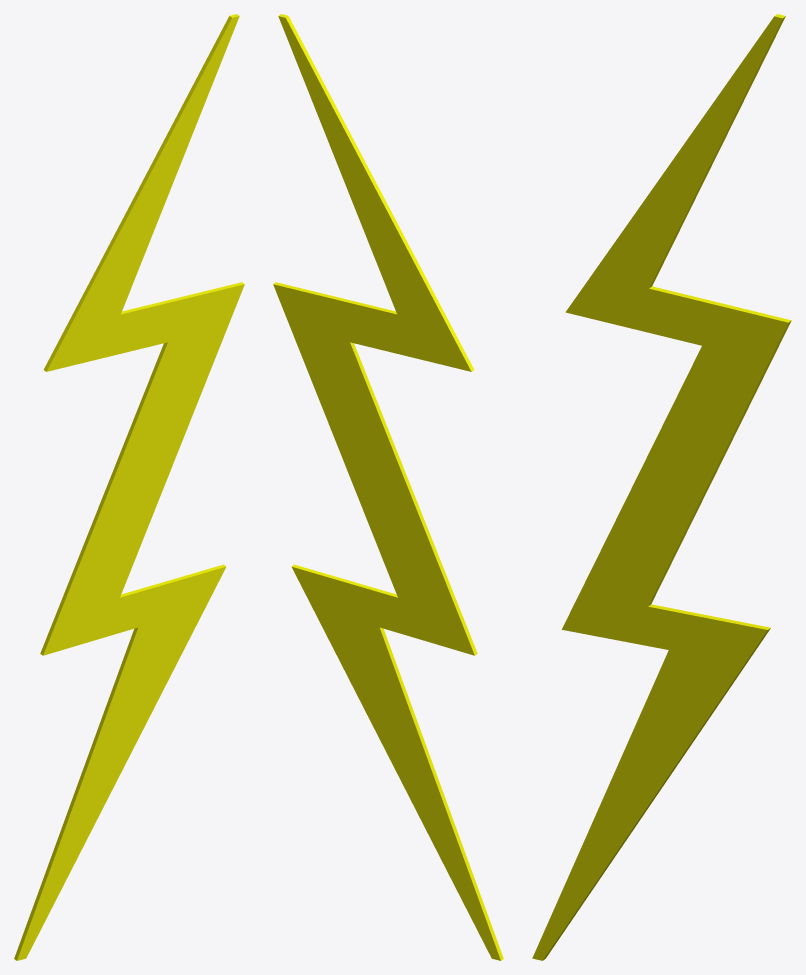
The model's file is lightning bolt 1.obj.
3 renders of one model, left to right at view 1: azimuth 30°, elevation 25°; view 2: azimuth 150°, elevation 25°; view 3: azimuth 330°, elevation 25°, orthographic. The views are drawn at different scales.
Bounding box in the file's own units: 1.42 × 5.32 × 0.0309.
